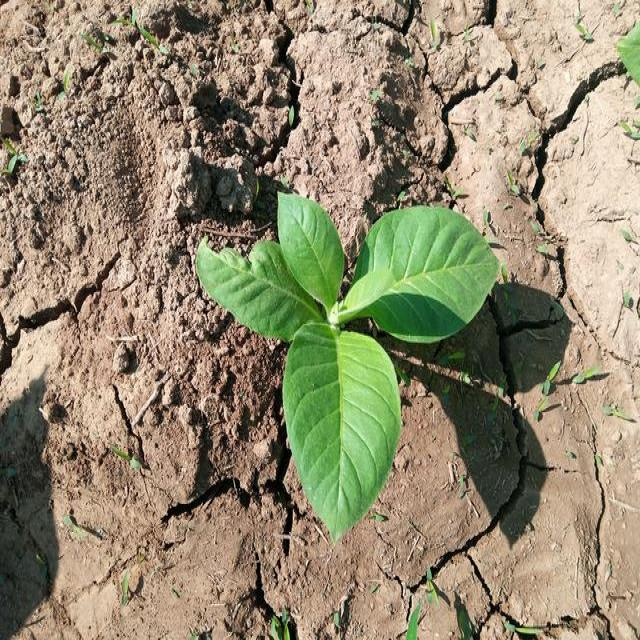crop: (202, 192, 491, 540)
